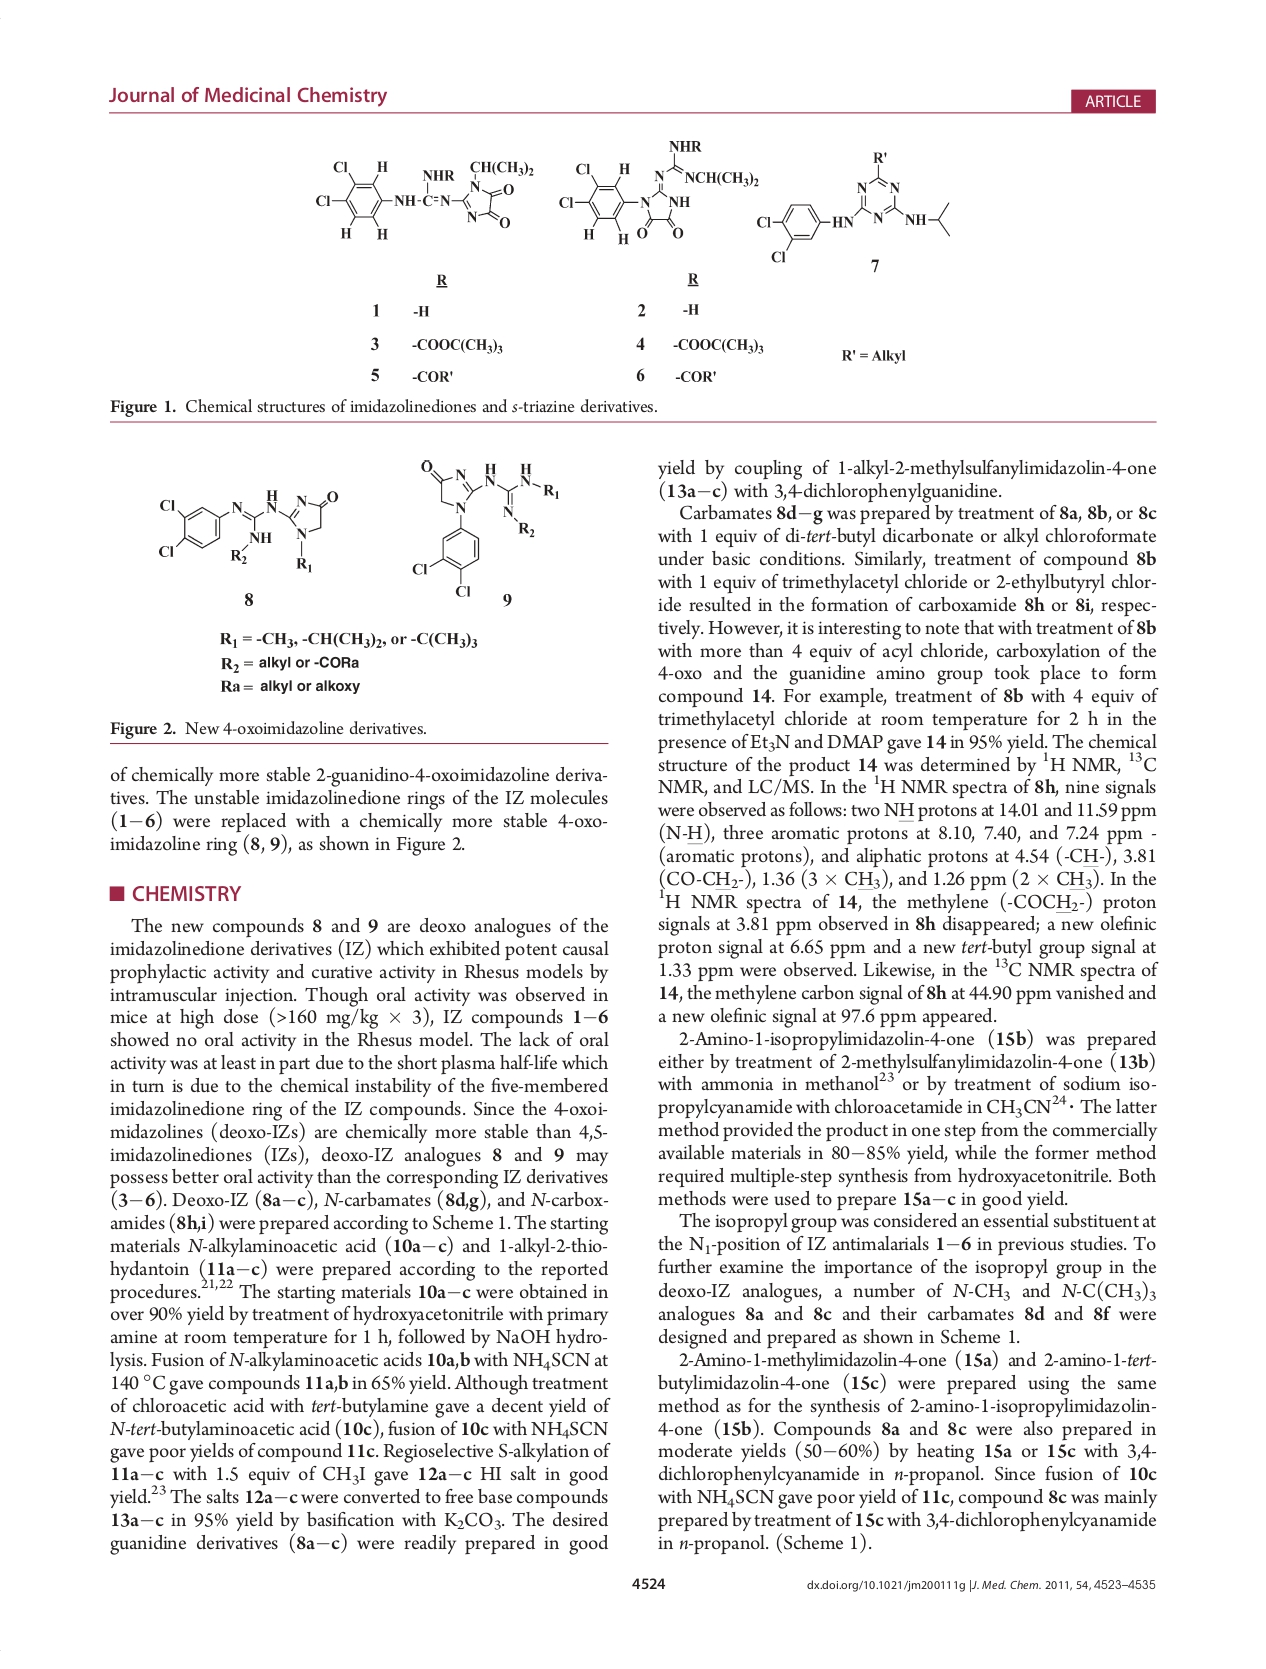exist_molecular: (755, 149, 955, 266), (555, 134, 761, 246), (410, 453, 561, 598), (313, 154, 537, 242), (153, 485, 340, 577)
